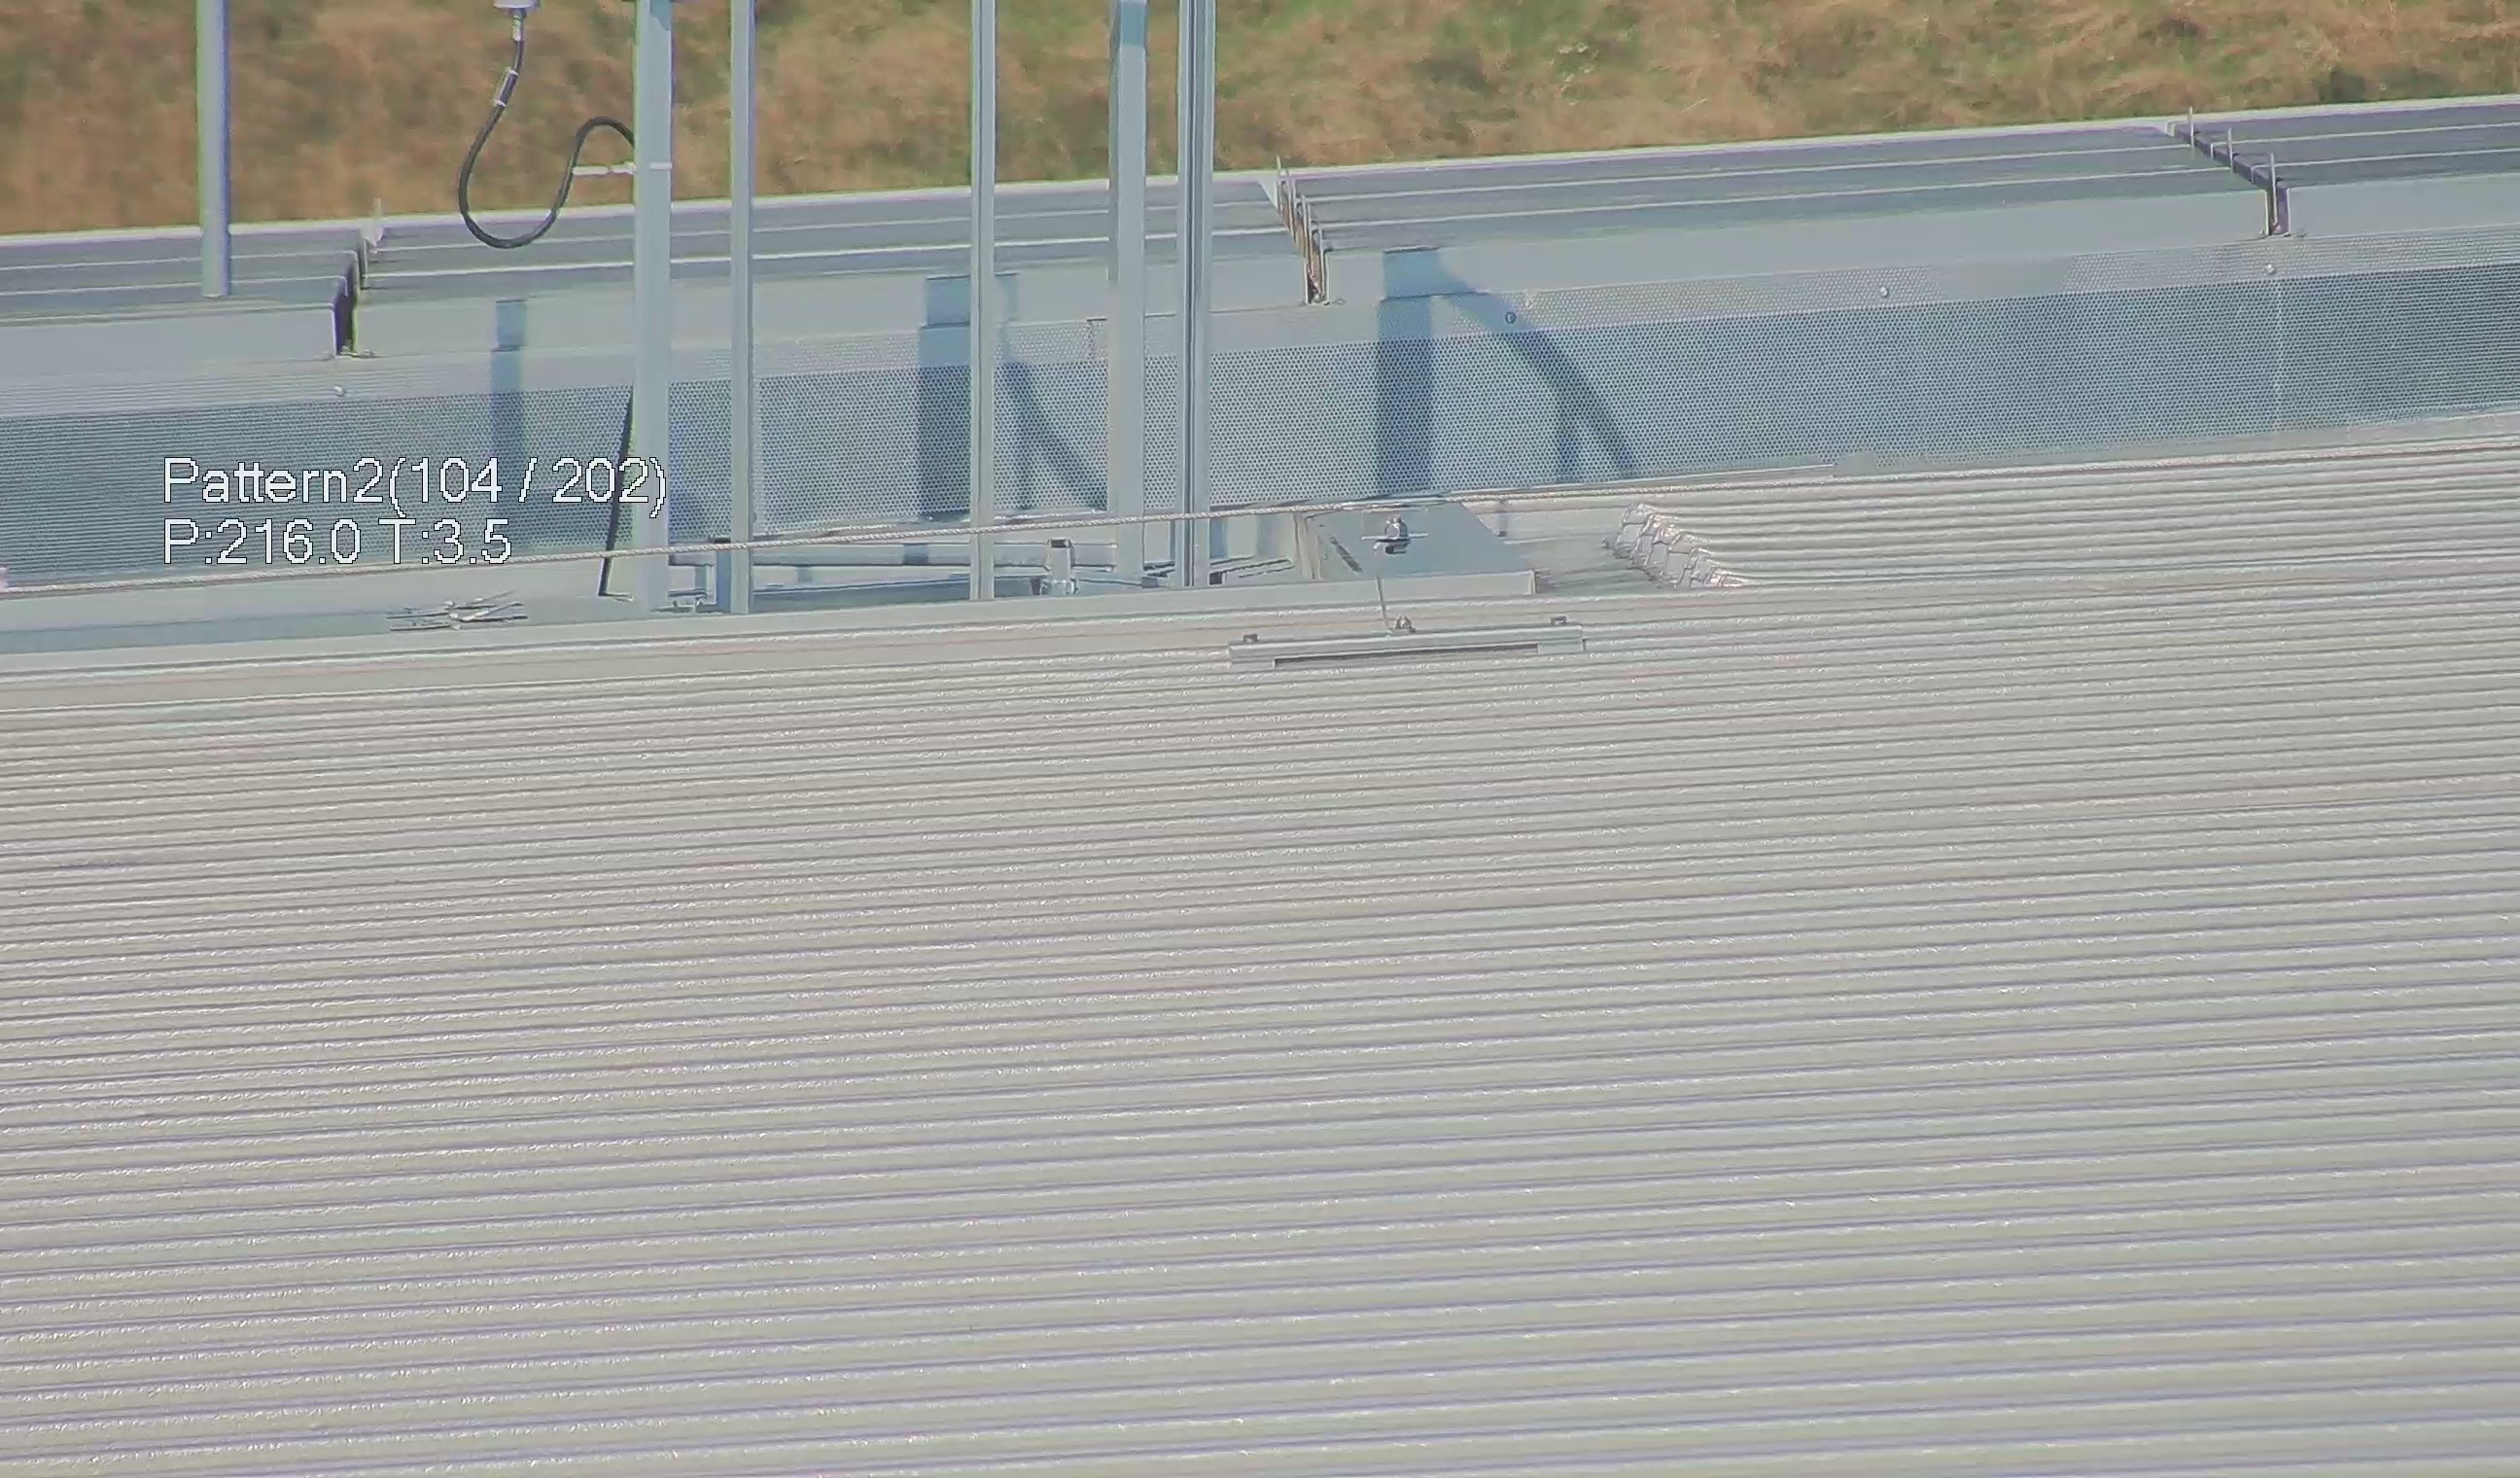Other: (1595, 496, 1762, 596)
